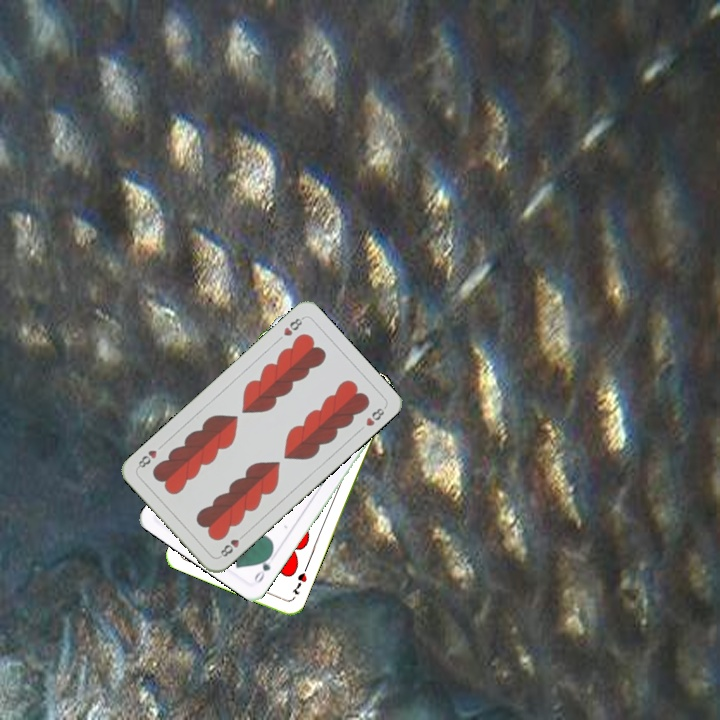GO: (249, 548, 275, 586)
H7: (288, 568, 309, 597)
H8: (216, 529, 248, 560), (279, 313, 306, 339)
